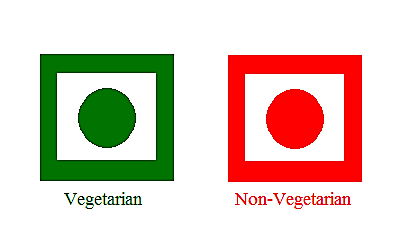NON-VEG: (227, 54, 364, 184)
VEG: (39, 52, 176, 183)
